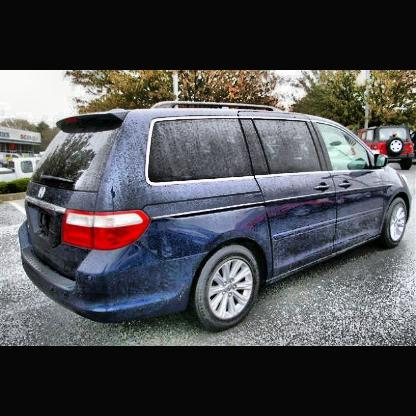Honda Odyssey Minivan 2007: (18, 100, 414, 332)
